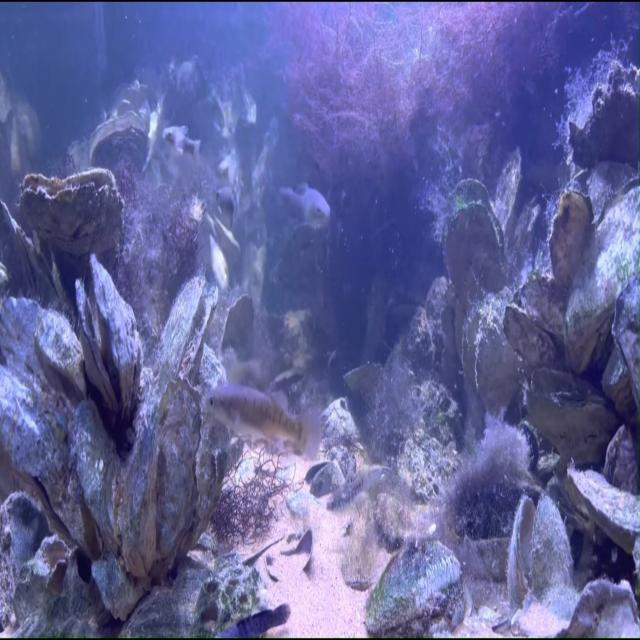Oyster- Indeterminate: (570, 60, 639, 167), (501, 188, 552, 277), (491, 147, 519, 250)
Oyster-Closed: (0, 361, 84, 548), (364, 537, 466, 638), (18, 167, 127, 259), (150, 378, 204, 562), (453, 288, 526, 416), (71, 398, 128, 556), (0, 298, 86, 402), (383, 418, 477, 512), (442, 179, 506, 308), (536, 187, 599, 291), (501, 272, 568, 369), (613, 275, 640, 418)
Oyster-Open: (62, 247, 157, 432), (507, 347, 634, 483), (149, 269, 224, 388), (508, 493, 572, 611), (87, 104, 154, 174), (222, 293, 254, 360)
